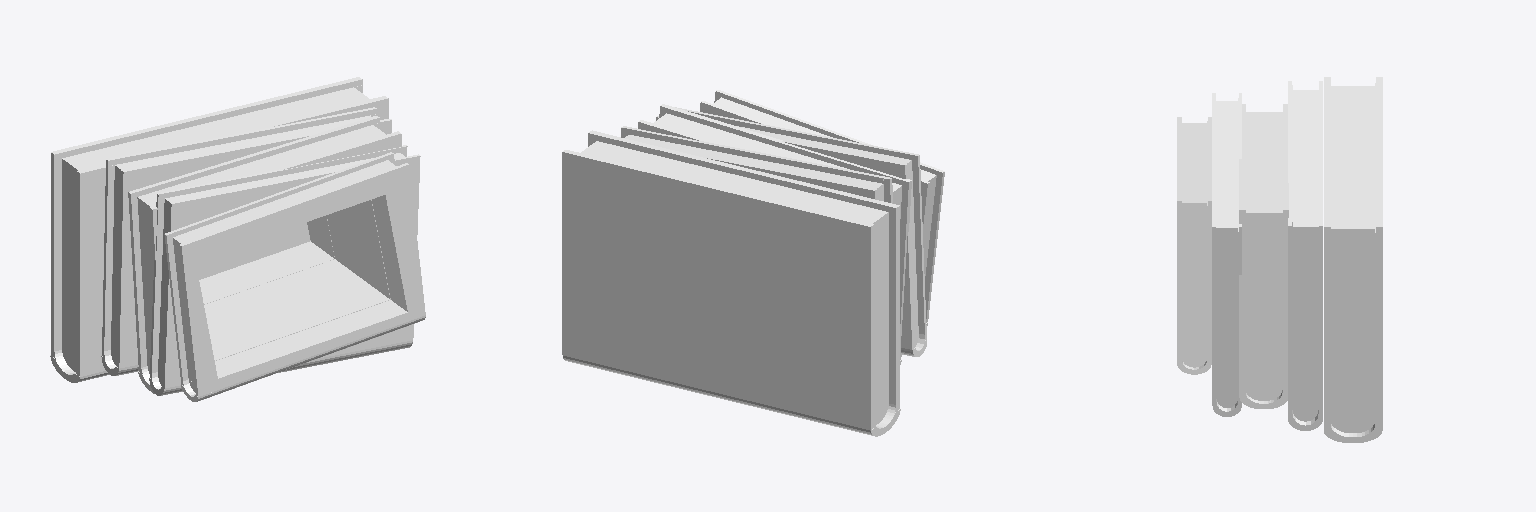
File: BOOKS.obj
3 views of the same model, side by side, from view 1: azimuth 30°, elevation 25°; view 2: azimuth 150°, elevation 25°; view 3: azimuth 270°, elevation 25° (orthographic).
Visible parts, largest first — view 1: MeshFeature1_2, MeshFeature1_1, MeshFeature1_3; view 2: MeshFeature1_1, MeshFeature1_2, MeshFeature1_3; view 3: MeshFeature1_2, MeshFeature1_1, MeshFeature1_3.
Part boxes in pixels (x1,y1,x2,y2): MeshFeature1_2: (101,107,420,395); MeshFeature1_1: (50,77,388,382); MeshFeature1_3: (164,152,425,401); MeshFeature1_1: (562,130,900,436); MeshFeature1_2: (621,104,926,364); MeshFeature1_3: (700,90,944,325); MeshFeature1_2: (1212,81,1322,430); MeshFeature1_1: (1324,77,1382,442); MeshFeature1_3: (1177,117,1211,374).
Size of the model in its own units: 116 by 80.48 by 66.68.